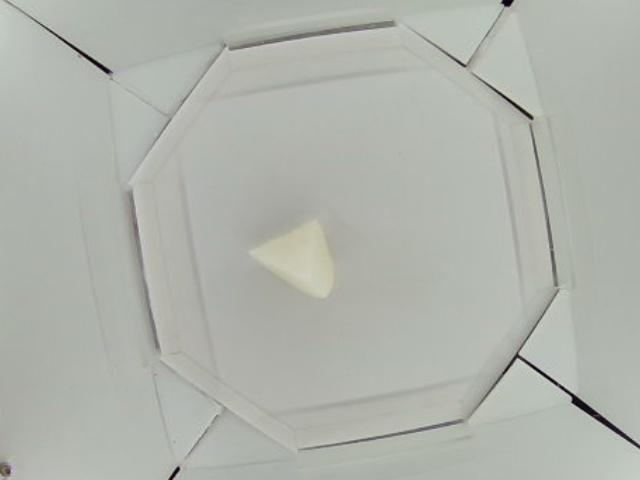Mooli: (250, 220, 332, 301)
